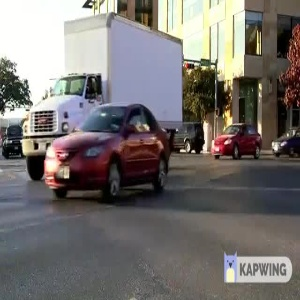car: (46, 103, 176, 201), (210, 118, 262, 168)
